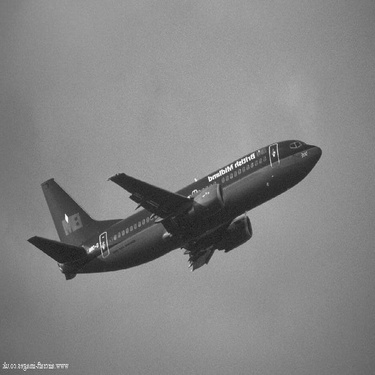airplane: (15, 136, 332, 293)
